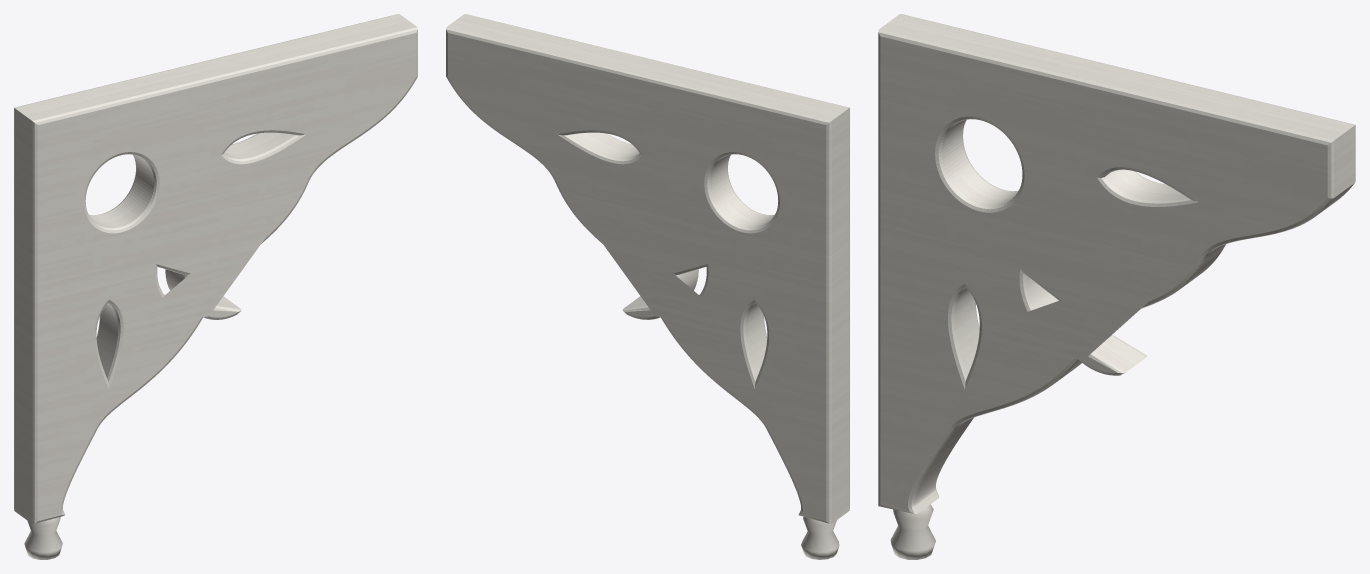
The model's file is objects-bracket.glb.
The picture shows the model from 3 angles, left to right: view 1: azimuth 30°, elevation 25°; view 2: azimuth 150°, elevation 25°; view 3: azimuth 330°, elevation 25°; orthographic projection. The views are drawn at different scales.
Visible parts, largest first — view 1: bracket, pendant_drop; view 2: bracket, pendant_drop; view 3: bracket, pendant_drop.
Boxes of the visible parts, <box> form: bracket: <box>14,14,417,523</box>; pendant_drop: <box>24,516,62,559</box>; bracket: <box>446,14,849,523</box>; pendant_drop: <box>801,517,839,559</box>; bracket: <box>878,14,1355,513</box>; pendant_drop: <box>890,504,935,559</box>.
Bounding box in the file's own units: 0.458 × 0.508 × 0.045.
Materials: 1 (1 with a texture image).
